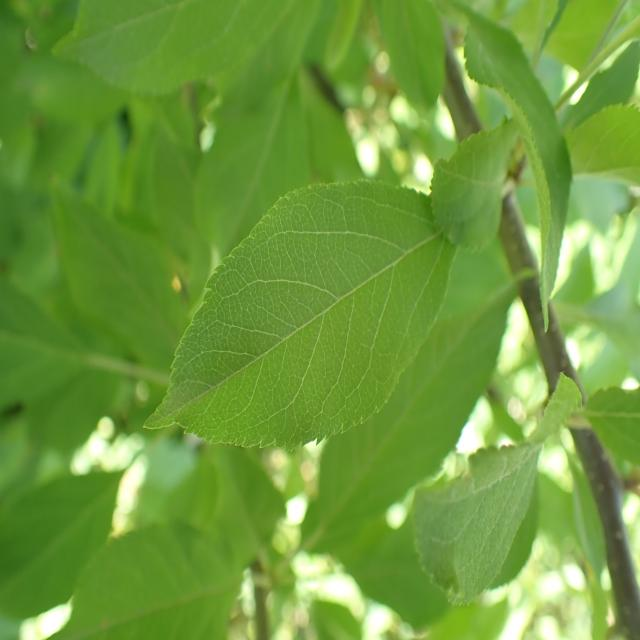healthy: (141, 180, 457, 452), (411, 370, 582, 608)
